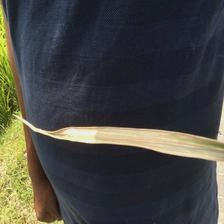Leaf_Blast: (29, 129, 220, 154)
